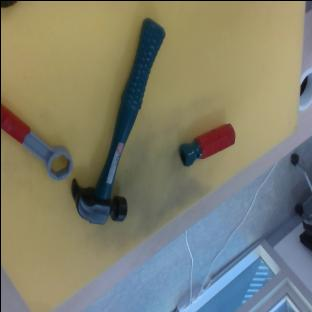part_2_good: (174, 120, 239, 167)
part_3_good: (0, 100, 79, 183)
